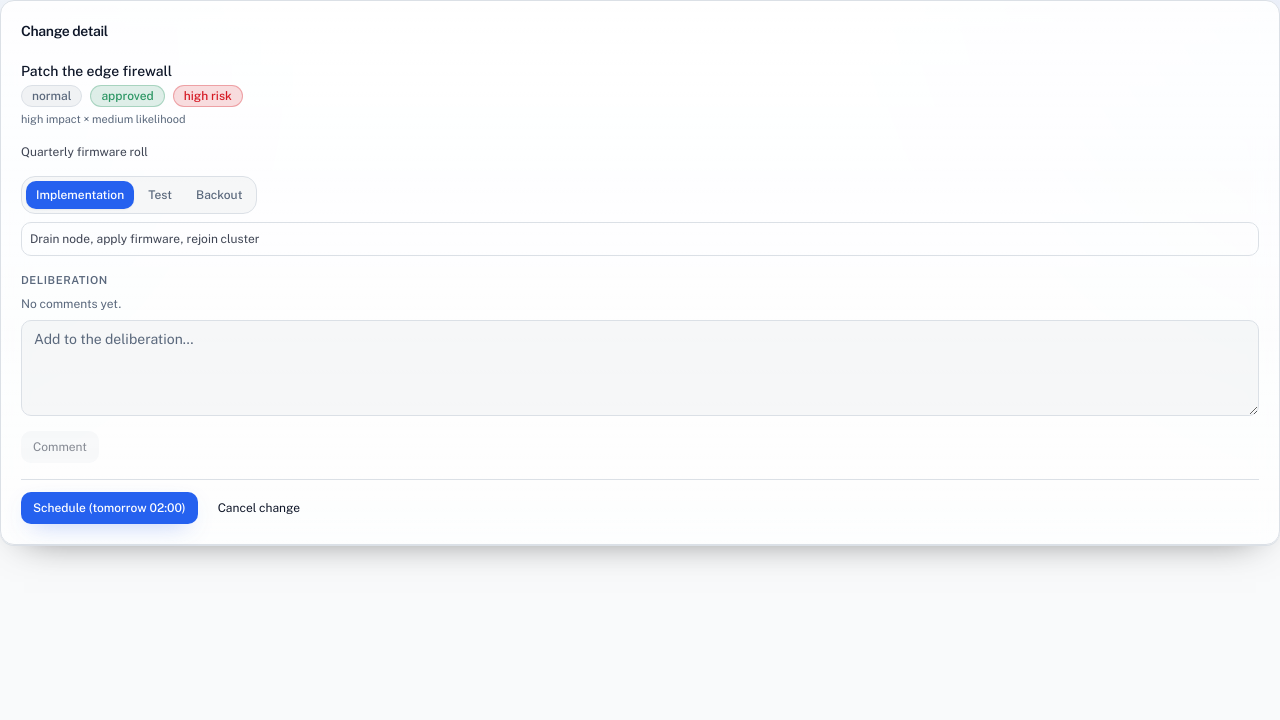
Test: ChangeDetail › tells the scheduler when the window it just booked lands inside a freeze
This screenshot has width=1280, height=720.
Click the button "Schedule (tomorrow 02:00)": click(109, 508) [21, 492, 198, 524]
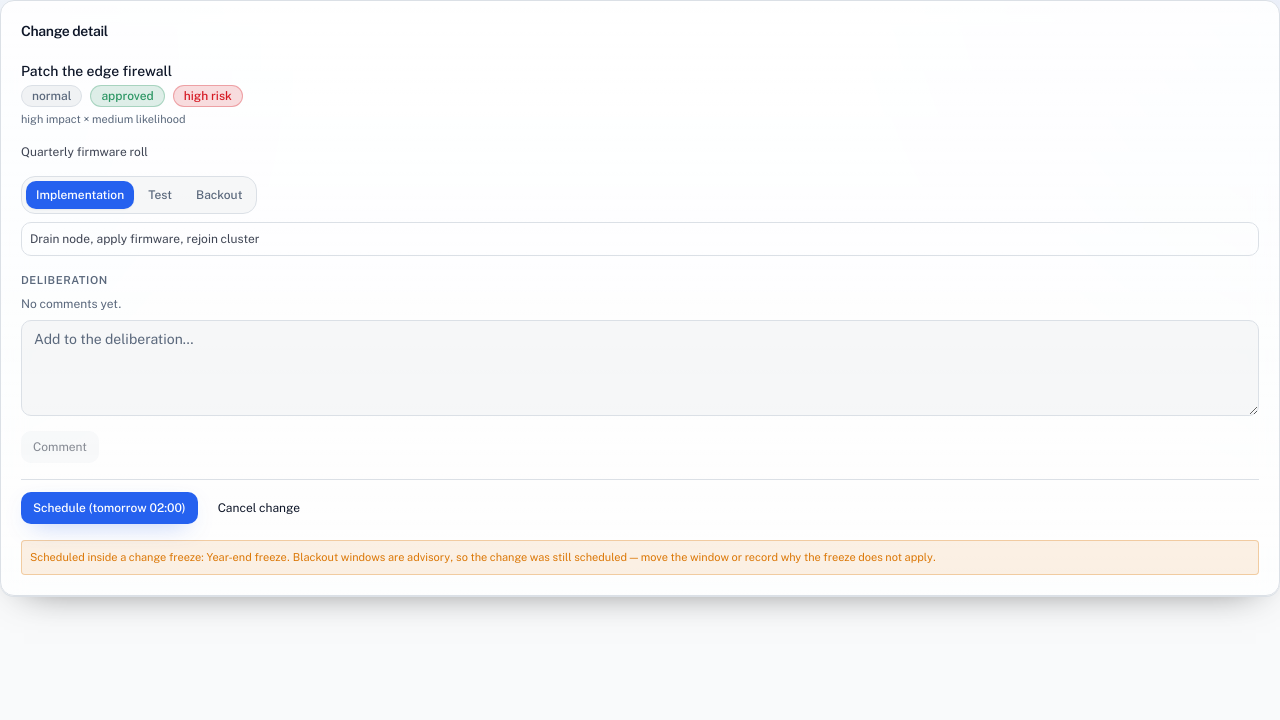
Expected: the message shows "Year-end freeze", [206, 551, 287, 563]
Expected: the message shows "advisory", [287, 551, 936, 563]
